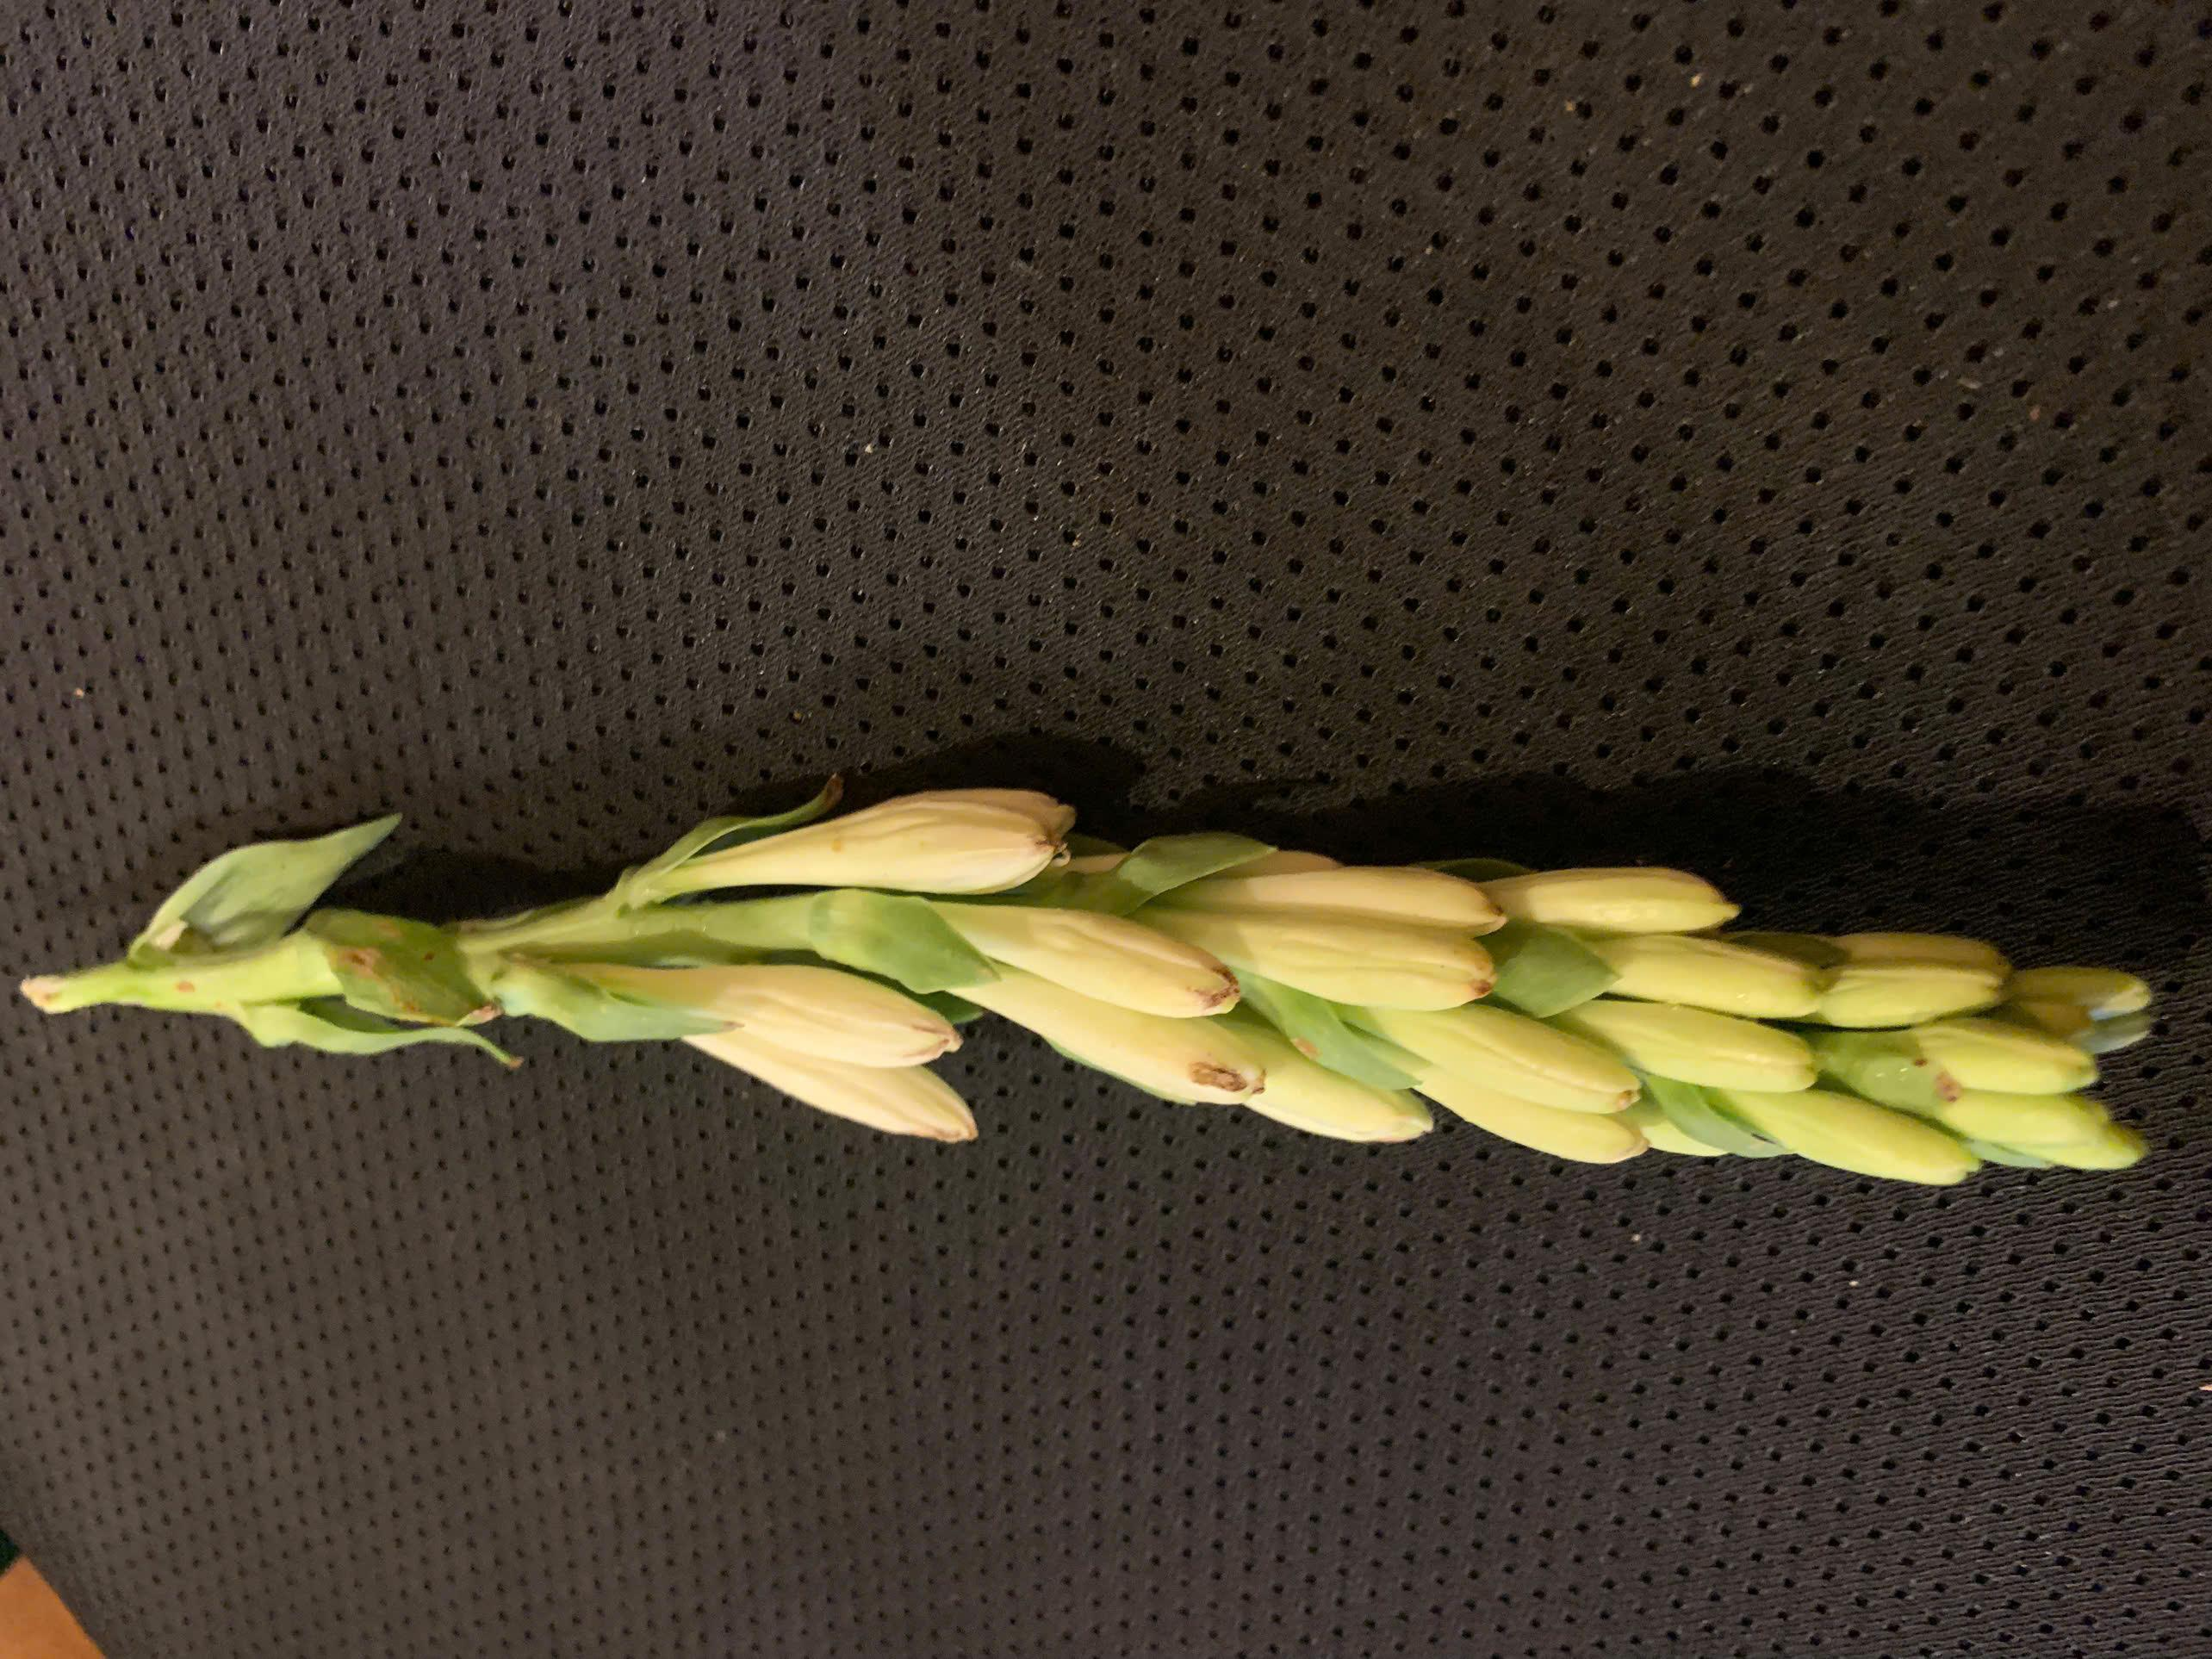Huu co: (37, 796, 2144, 1199)
